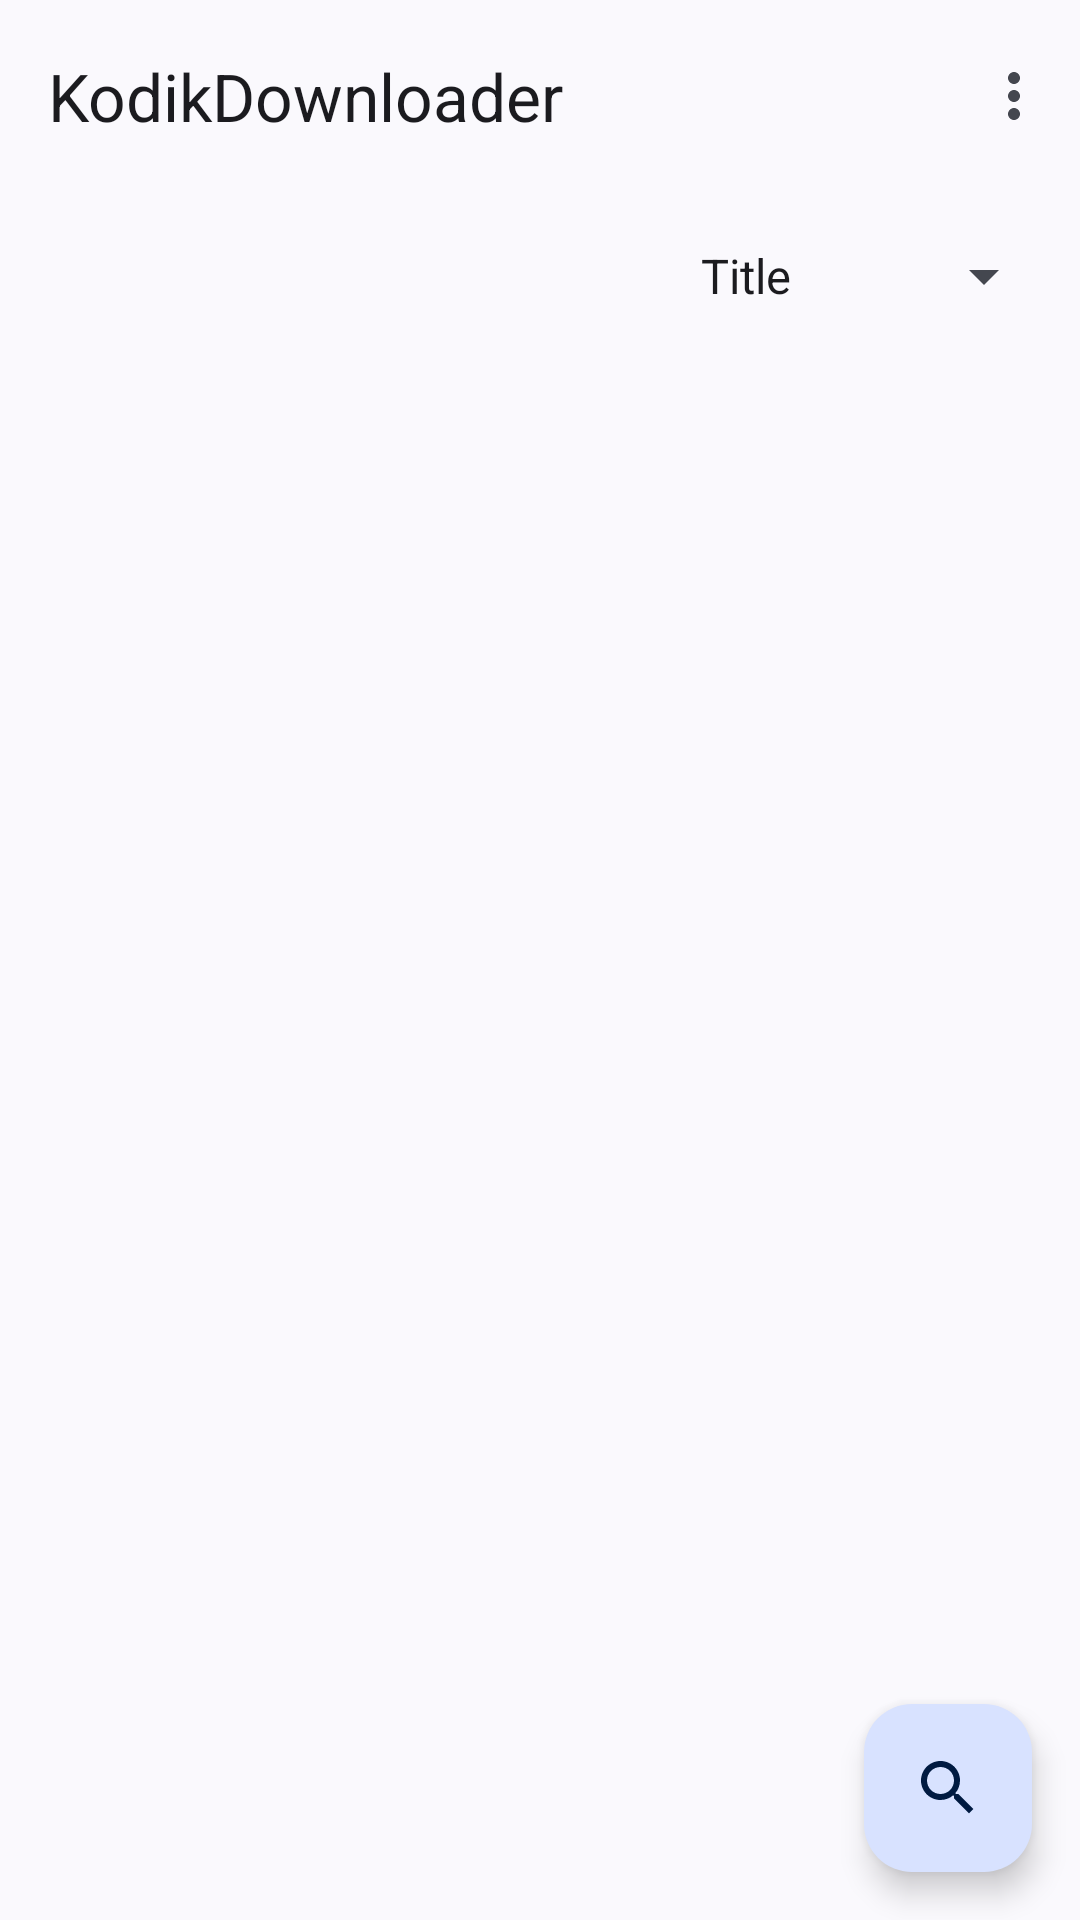

Screen size 1080×1920. Icon name, then its box in pixels as (x1, y1, x2, y2):
search: (864, 1704, 1032, 1872)
